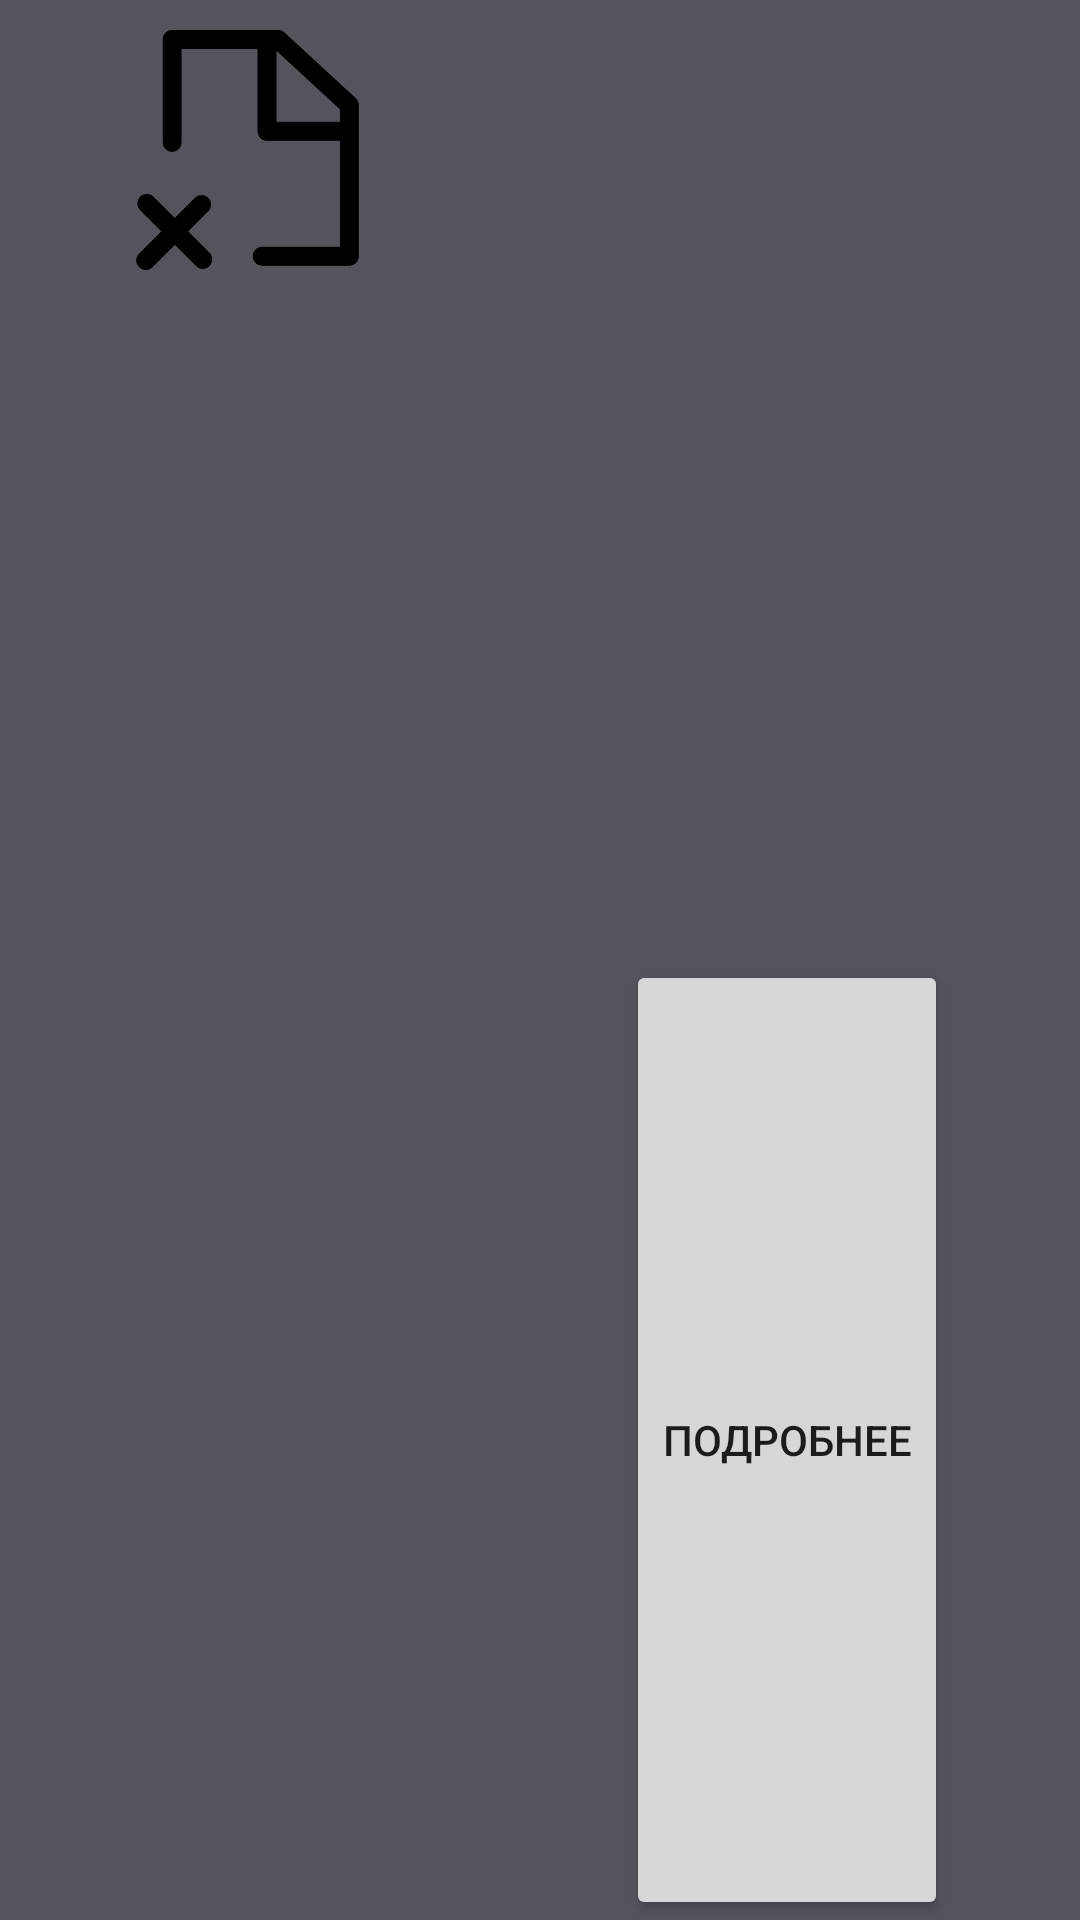

Icons on this 1080px x 1920px Android screen, each with its box as region(x1, y1, x2, y2):
deletefile: region(136, 30, 359, 270)
